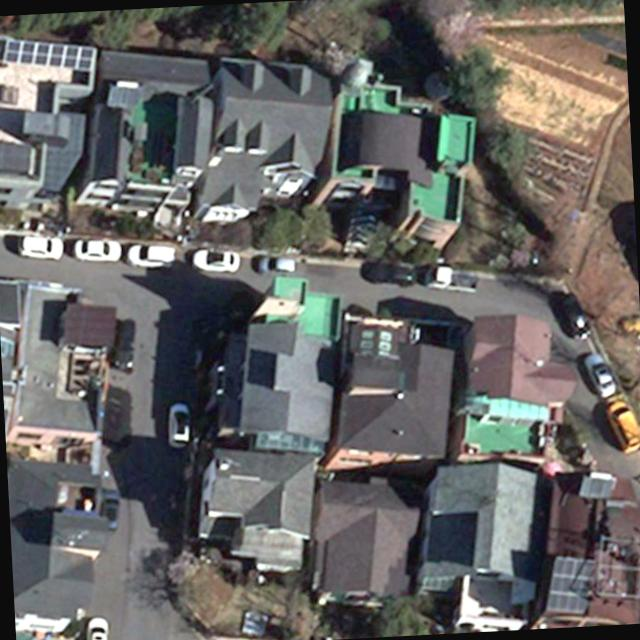solar: (0, 32, 98, 78), (542, 548, 596, 615), (577, 468, 621, 506)
